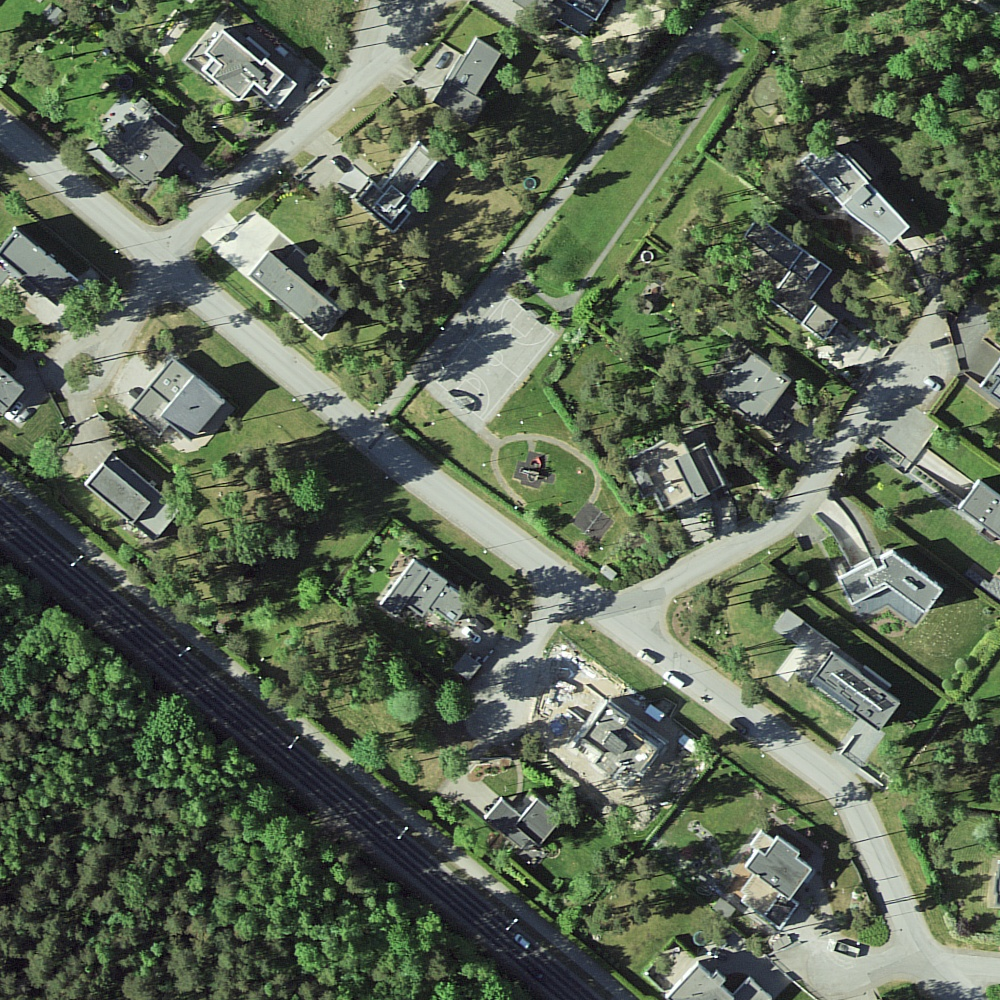building: (745, 216, 840, 343), (800, 143, 912, 245), (625, 426, 729, 513), (248, 251, 344, 341), (353, 141, 444, 235), (85, 453, 181, 542), (130, 358, 230, 443), (808, 651, 904, 733), (201, 31, 299, 111), (574, 699, 666, 780), (740, 829, 813, 931), (838, 551, 944, 614), (432, 38, 503, 128), (378, 559, 474, 625), (1, 231, 82, 307), (715, 350, 793, 424), (114, 120, 185, 187), (483, 796, 564, 854), (665, 961, 774, 1000), (957, 480, 1000, 541), (556, 1, 612, 25), (1, 370, 26, 417)
